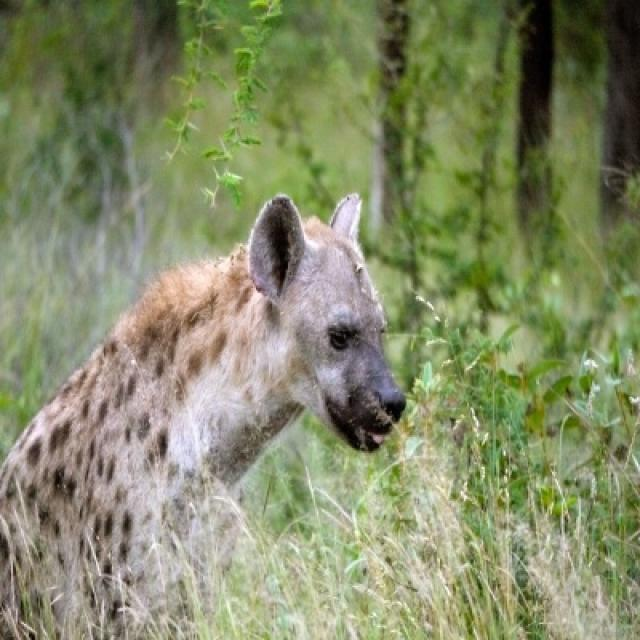hyena: (0, 195, 406, 638)
